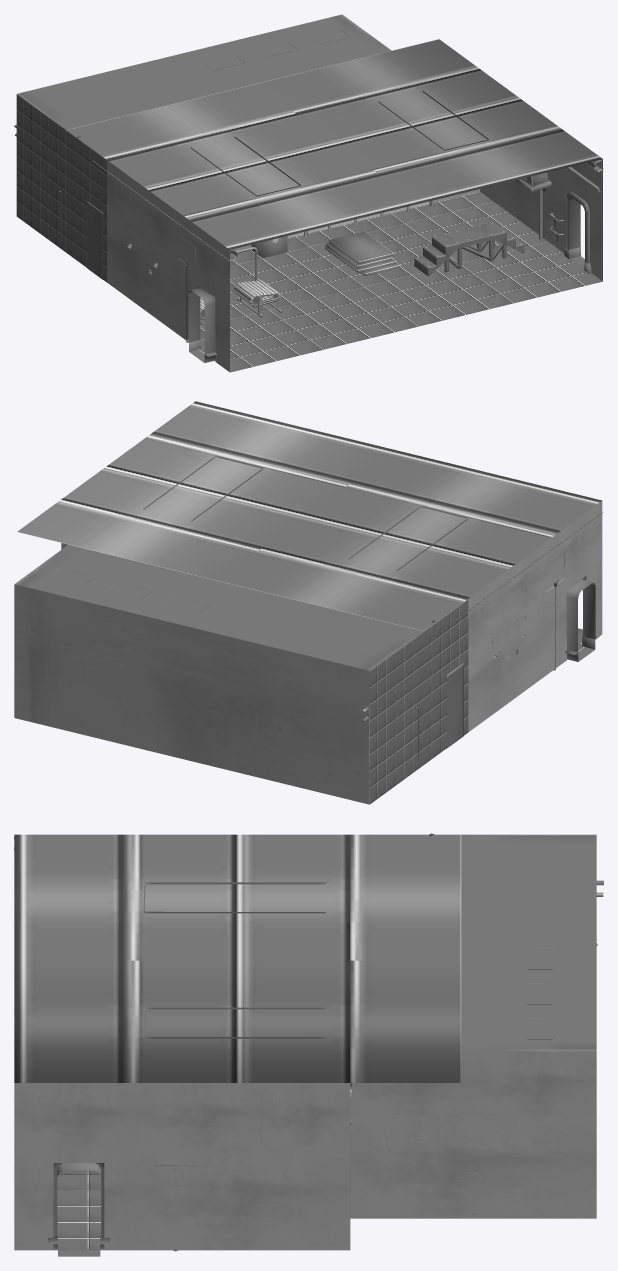
The model's file is MSH_endurance_room_L2_R2_optimized.fbx.
The picture shows the model from 3 angles, top to bottom: view 1: azimuth 30°, elevation 25°; view 2: azimuth 150°, elevation 25°; view 3: azimuth 270°, elevation 25°; orthographic projection. The views are drawn at different scales.
Parts seen in each view (by area): view 1: lightmap0, lightmap-1; view 2: lightmap0, lightmap-1; view 3: lightmap0, lightmap-1.
Part boxes in pixels (x1=…): lightmap0: x1=14, y1=14, x2=603, y2=372; lightmap-1: x1=188, y1=197, x2=584, y2=362; lightmap0: x1=14, y1=401, x2=603, y2=804; lightmap-1: x1=566, y1=580, x2=595, y2=661; lightmap0: x1=14, y1=833, x2=603, y2=1251; lightmap-1: x1=57, y1=1163, x2=100, y2=1256.
Bounding box in the file's own units: 20.61 × 6.28 × 19.68.
